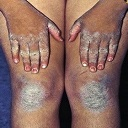Pityriasis Rubra Pilaris: (73, 24, 117, 68), (10, 40, 49, 71)
